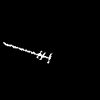treble_crochet: (4, 43, 50, 62)
